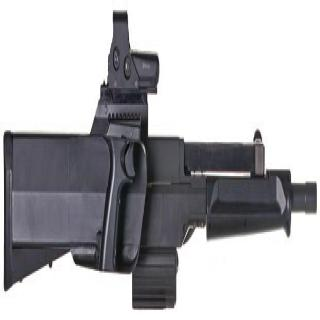gun: (0, 25, 317, 315)
